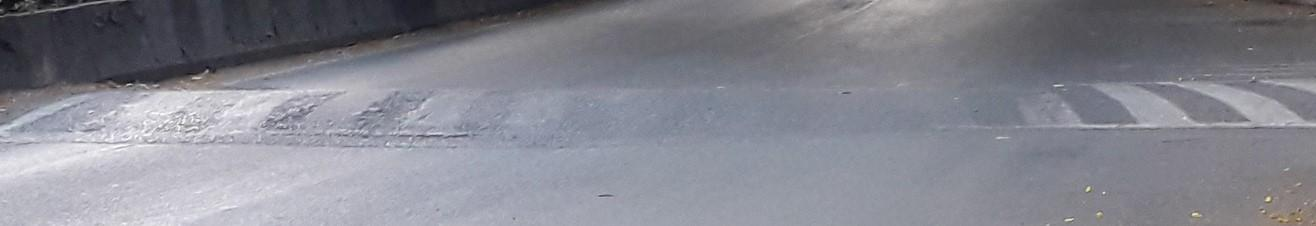speed-bump: (4, 66, 1316, 144)
